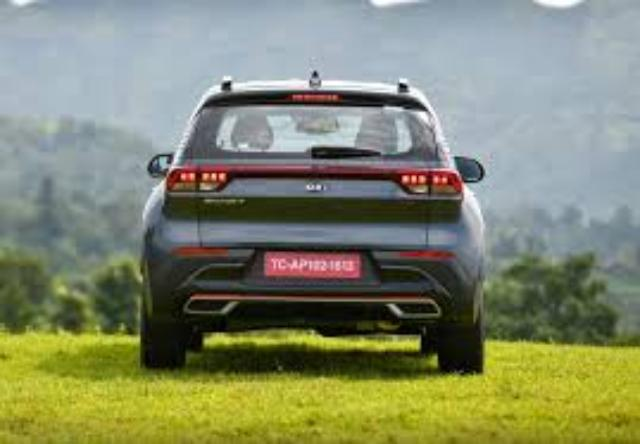kia: (140, 70, 484, 376)
